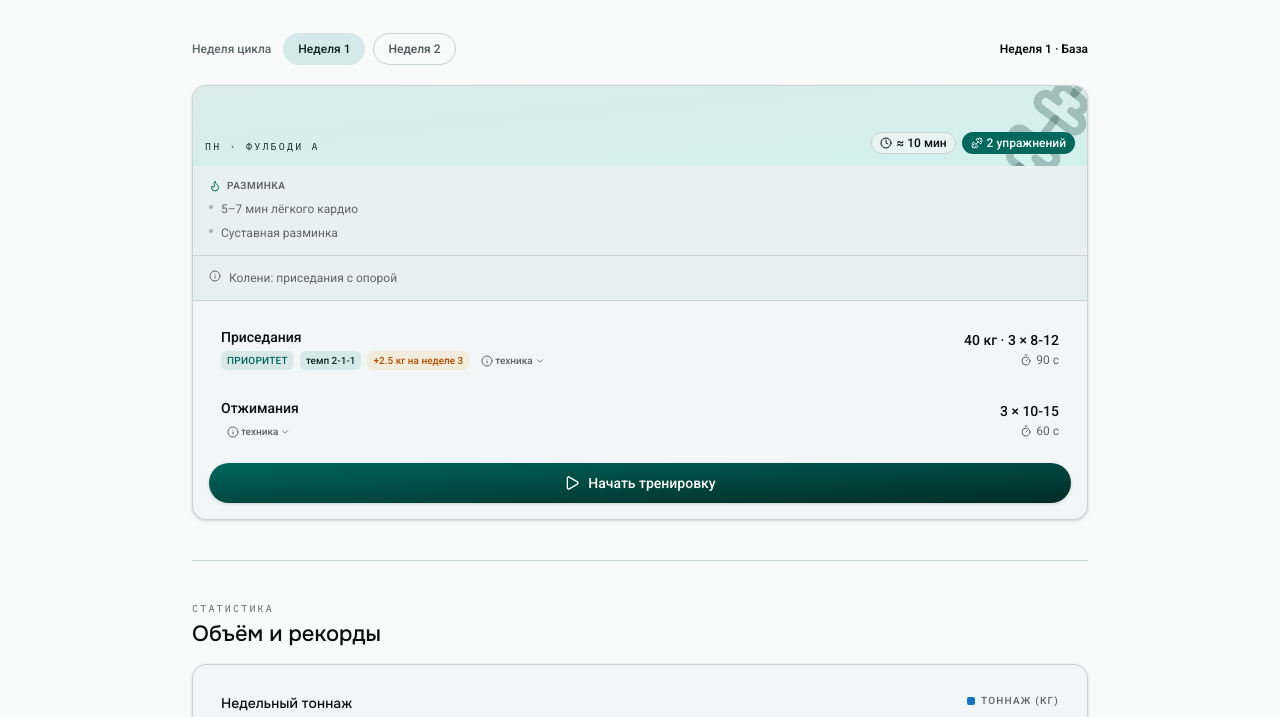
Test: Workouts › подсказки по технике раскрываются по клику
(page scrolled)
Note: У «Приседаний» есть техника в EXERCISE_TIPS.
Step 1. Click the button with aria-label "Показать технику для Приседания" → (513, 360), box [475,351,551,370]
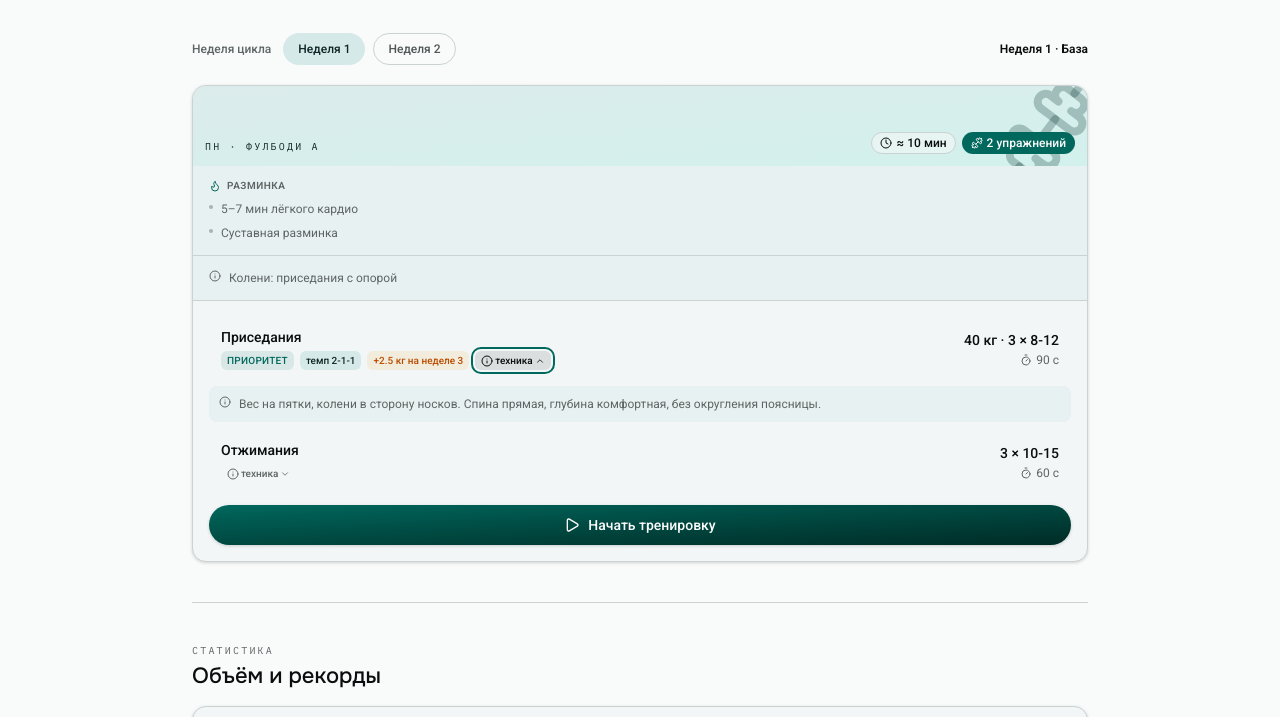
expect the button with aria-label "Скрыть технику для Приседания" is shown: met, box [475,351,551,370]
